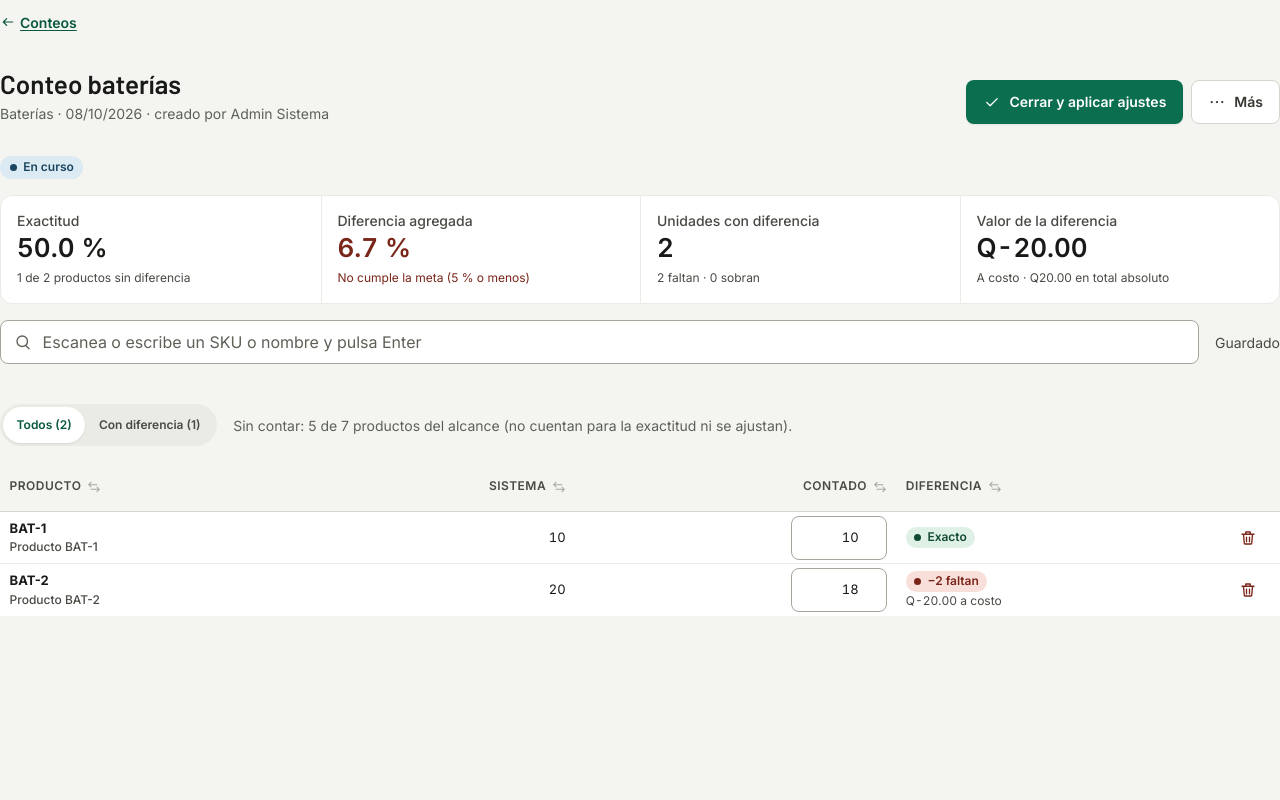
Test: ConteoDetallePage › cancelar el conteo requiere confirmar
Click the button "Más": (1236, 102) top-left (1191, 80), bottom-right (1279, 124)
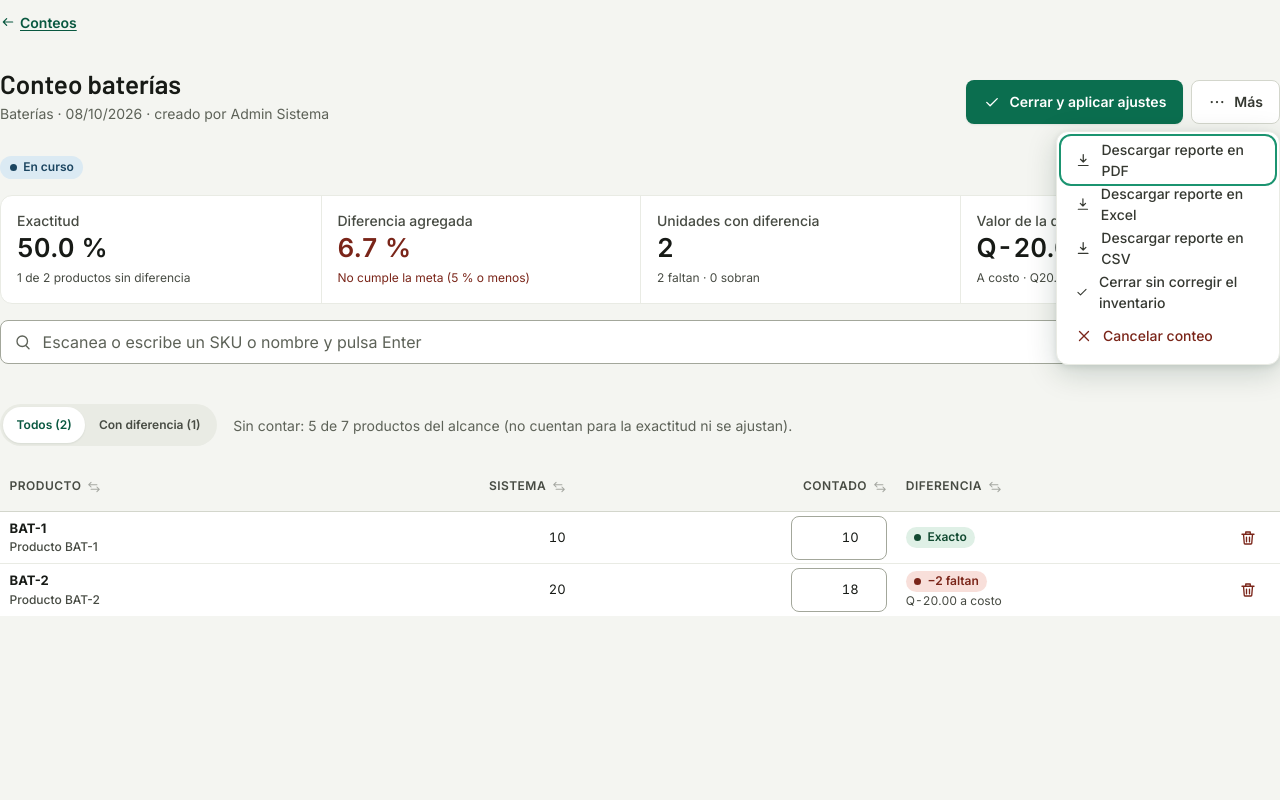
Click the menu item "Cancelar conteo": (1168, 336) top-left (1063, 314), bottom-right (1273, 358)
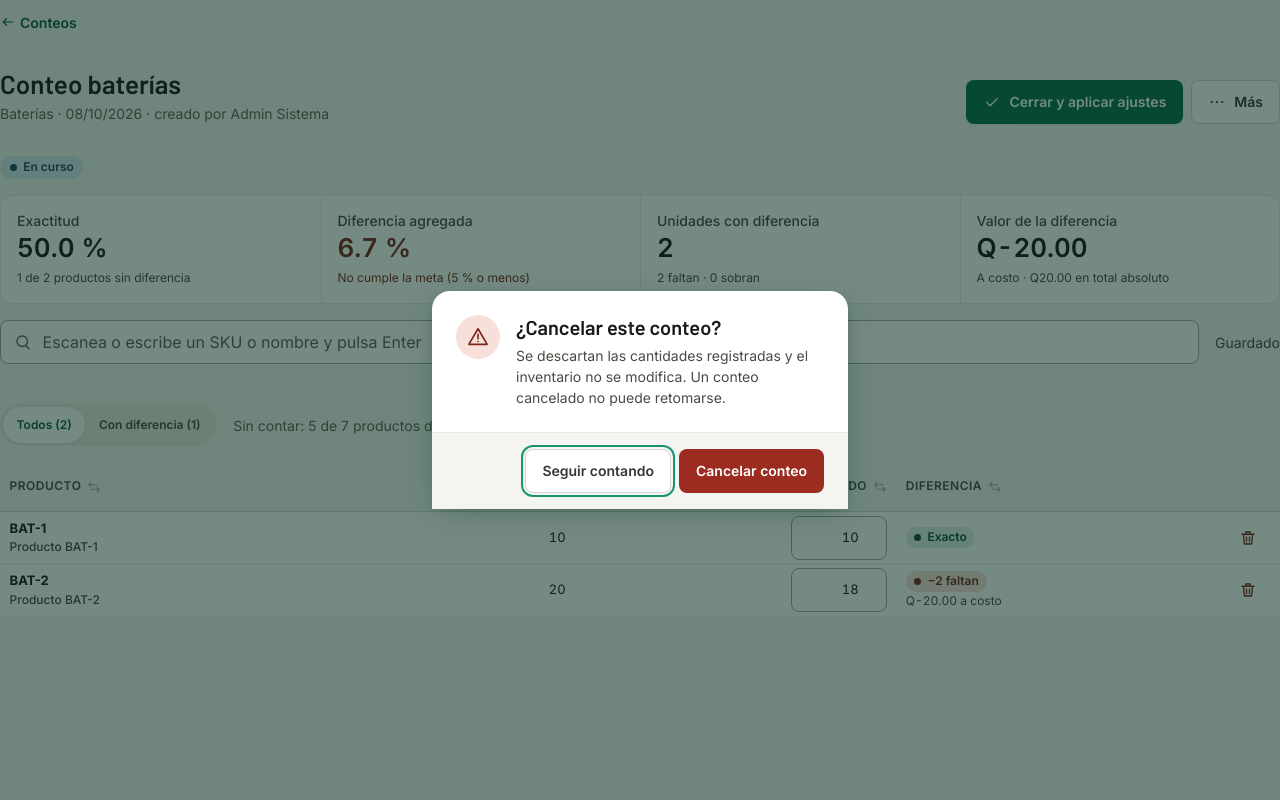
Click the button "Cancelar conteo": (752, 471) top-left (679, 449), bottom-right (824, 493)
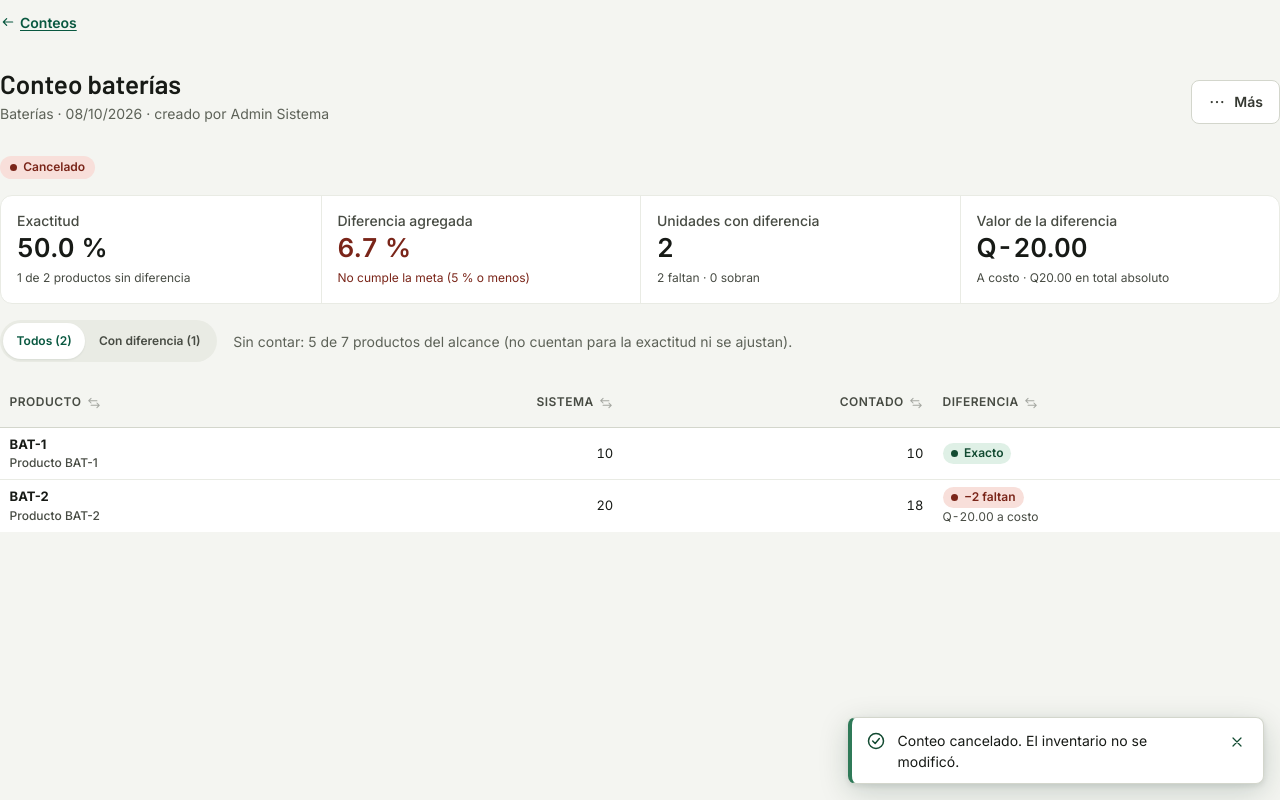
Now the text "Cancelado" is shown, box top-left (0, 156), bottom-right (95, 179)
